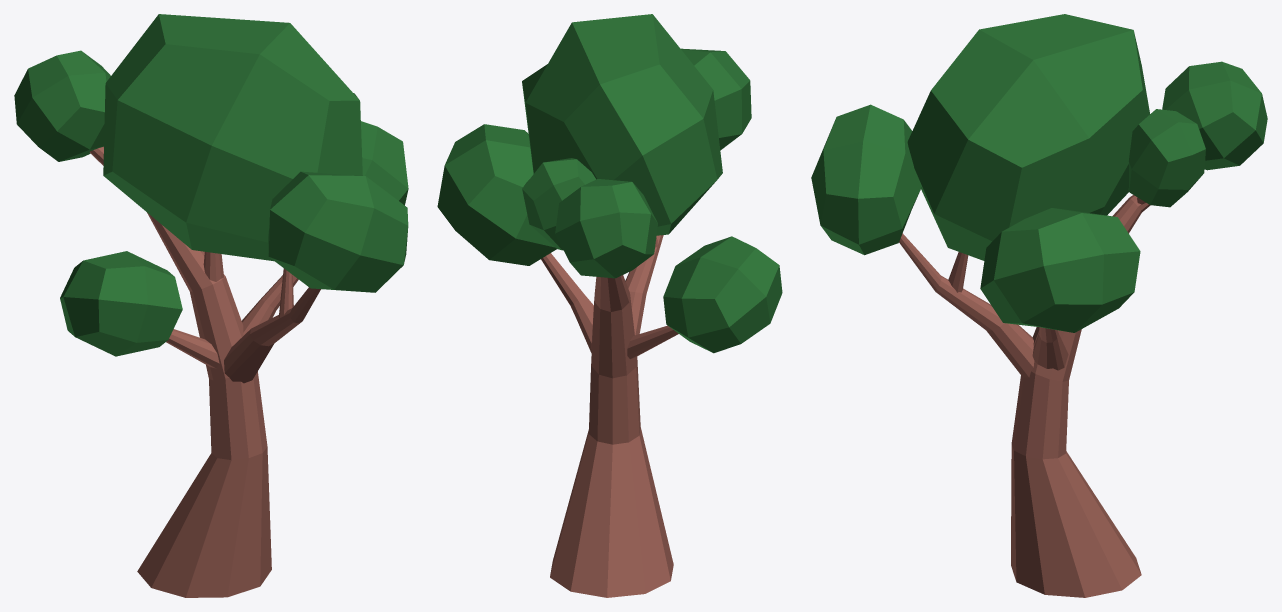
Rendered from oak.glb.
3 renders of one model, left to right at view 1: azimuth 30°, elevation 25°; view 2: azimuth 150°, elevation 25°; view 3: azimuth 270°, elevation 25°, orthographic. The views are drawn at different scales.
Visible parts, largest first — view 1: oak leafs, oak trunk; view 2: oak leafs, oak trunk; view 3: oak leafs, oak trunk.
Boxes of the visible parts, left/top/right/bottom form: oak leafs: left=14, top=14, right=408, bottom=356; oak trunk: left=89, top=146, right=320, bottom=597; oak leafs: left=437, top=14, right=782, bottom=353; oak trunk: left=541, top=235, right=678, bottom=597; oak leafs: left=811, top=14, right=1267, bottom=332; oak trunk: left=899, top=195, right=1150, bottom=597.
Size of the model in its own units: 3.2 by 4.96 by 3.77.
